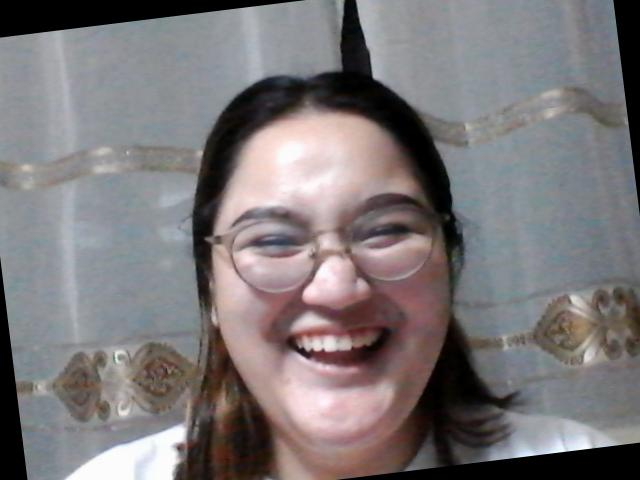senang: (183, 105, 459, 440)
